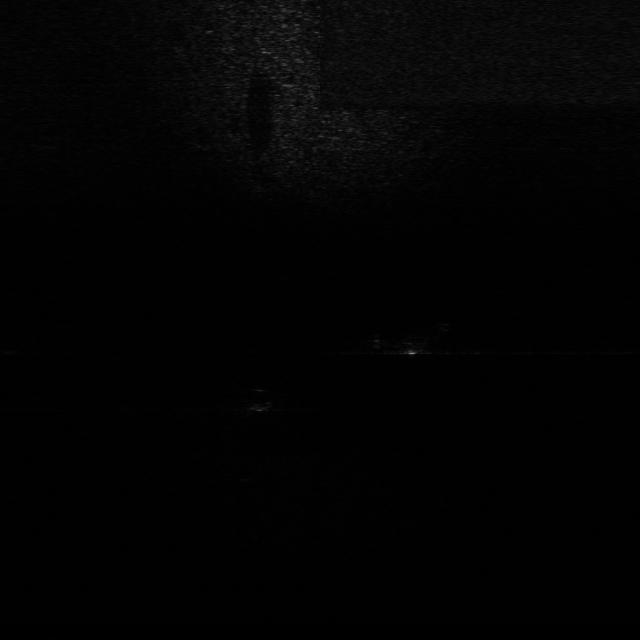ball: (236, 380, 286, 414)
human body: (367, 322, 458, 360)
